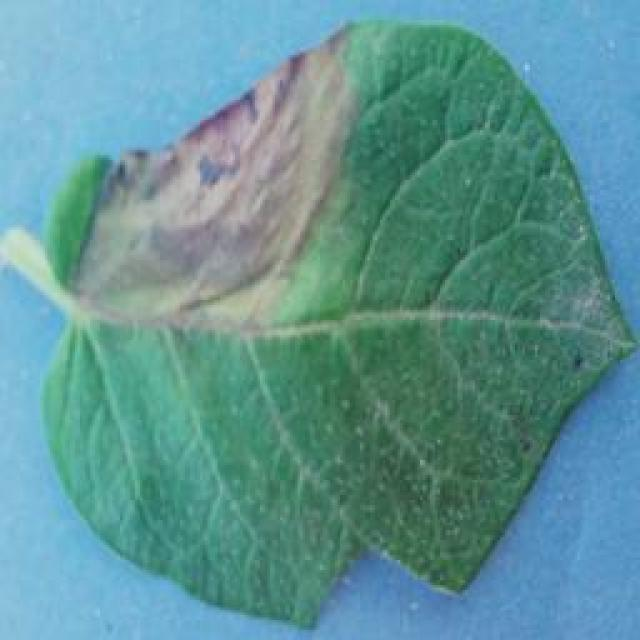Potato_Late_Blight: (18, 20, 640, 640)
